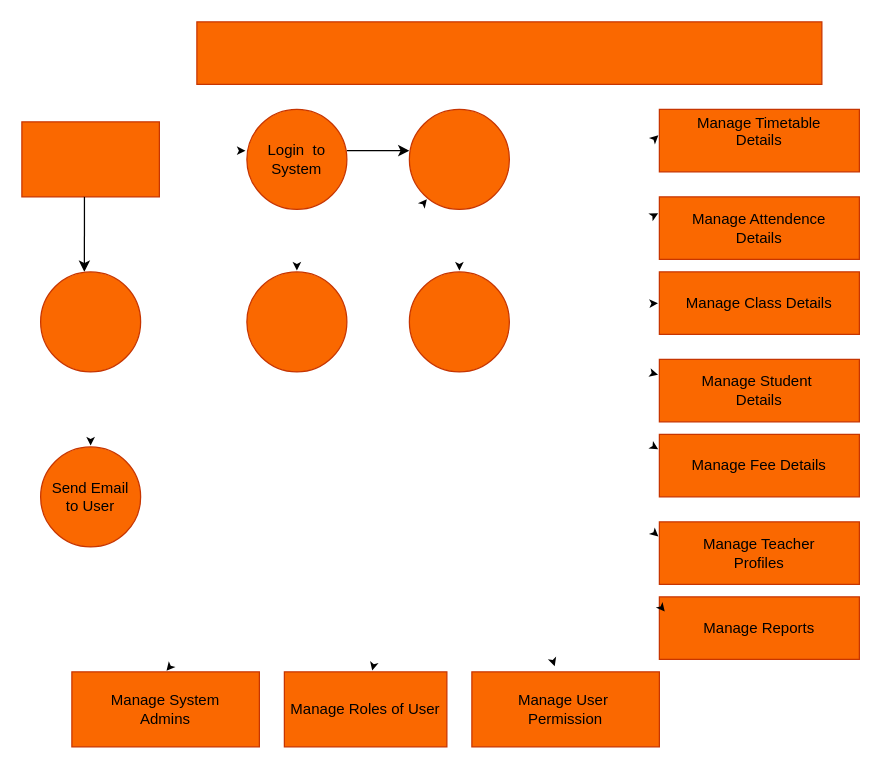
Image size: 881x769. Some labels were removed from this diagram. The box of each missing label's shape, as (x1, y1, x2, y2) in pixels:
Admin: (21, 121, 159, 197)
Check Credentials: (246, 271, 347, 372)
Check Roles of Access: (408, 108, 509, 209)
Forget Password: (39, 271, 141, 372)
Manage Modules: (408, 271, 509, 372)
Student Information System: (196, 21, 822, 84)
